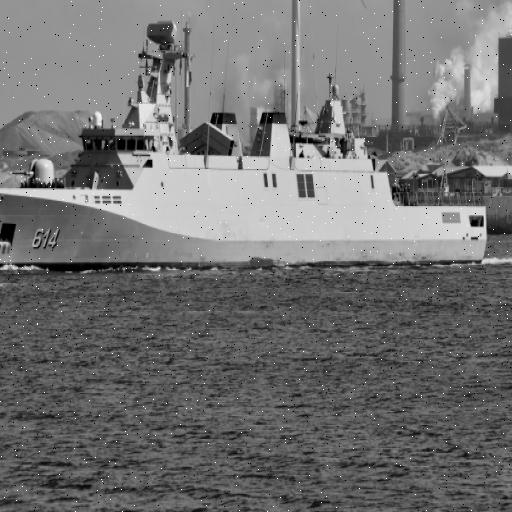Fragata: (1, 19, 492, 277)
